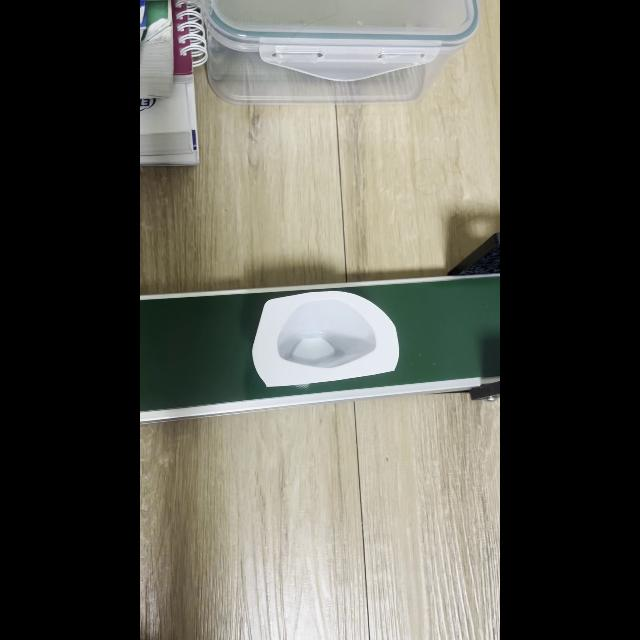clean: (255, 292, 390, 376)
